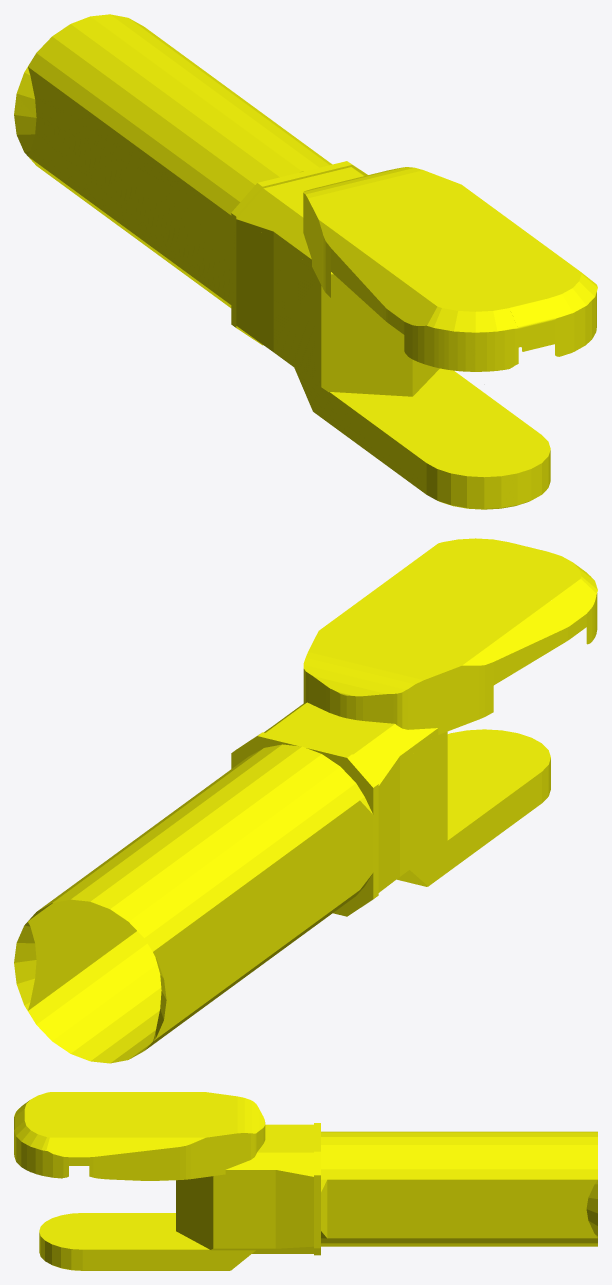
3 views of the same model, one above another, from view 1: azimuth 30°, elevation 25°; view 2: azimuth 150°, elevation 25°; view 3: azimuth 270°, elevation 25° (orthographic). The views are drawn at different scales.
Parts seen in each view (by area): view 1: node; view 2: node; view 3: node.
Part boxes in pixels (bbox=[...]): node: bbox=[14, 14, 597, 509]; node: bbox=[14, 538, 597, 1063]; node: bbox=[14, 1092, 597, 1270].
Bounding box in the file's own units: 300 × 334 × 1275.
